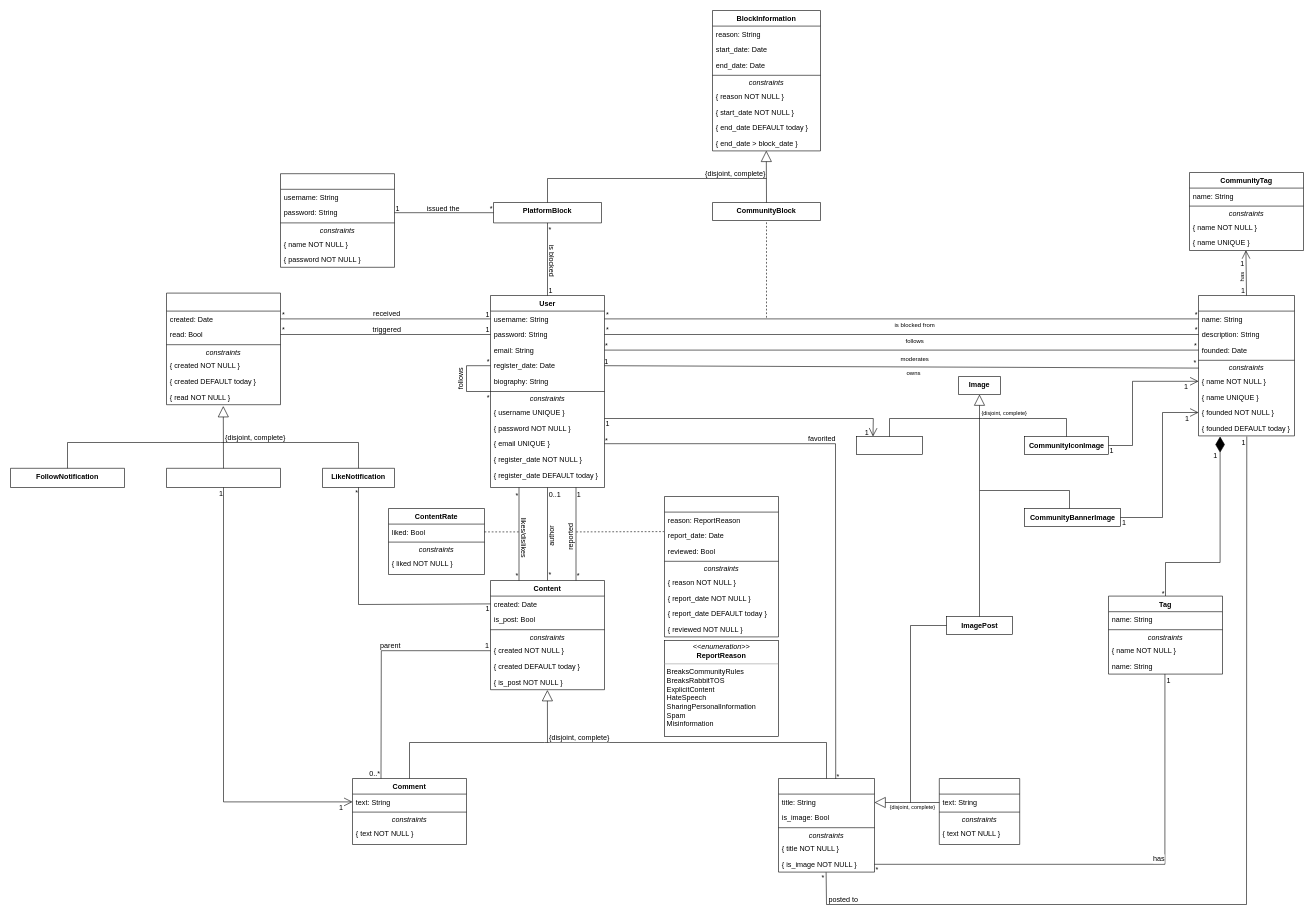
Image size: 1314x916. Some labels were removed from this diagram. Here are the shapes that lost their labels. From the top down, the box of each, then its label:
(280, 173, 394, 267): Administrator
(166, 292, 280, 405): Notification
(1198, 295, 1294, 436): Community
(856, 436, 922, 454): UserProfileImage
(166, 468, 280, 488): ReplyNotification
(664, 496, 778, 637): ReportInformation
(778, 778, 874, 872): Post
(939, 778, 1020, 844): TextPost
